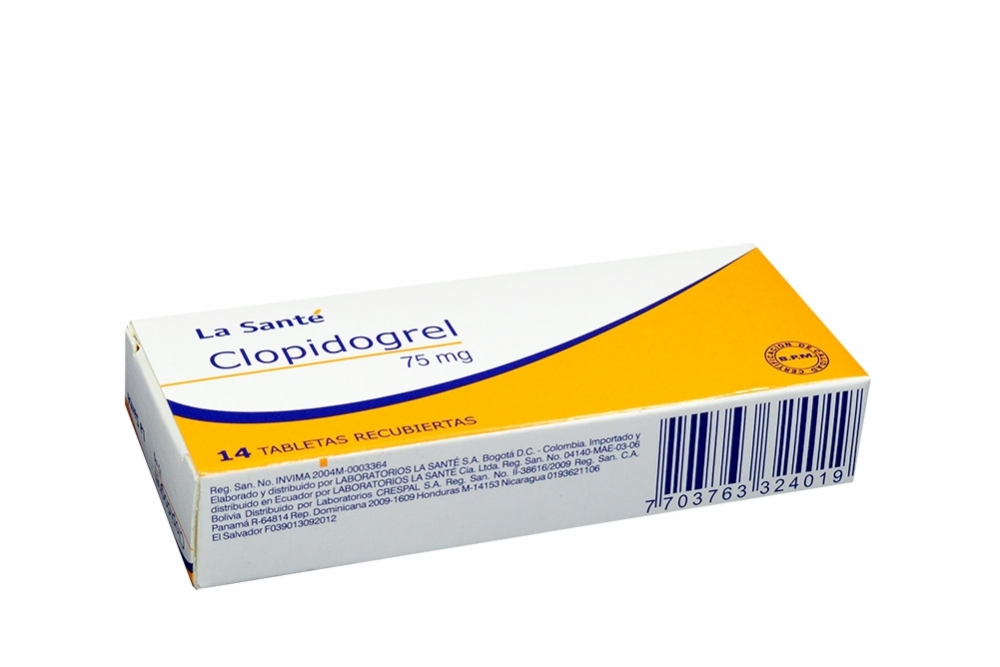LaSante: (142, 251, 861, 465)
